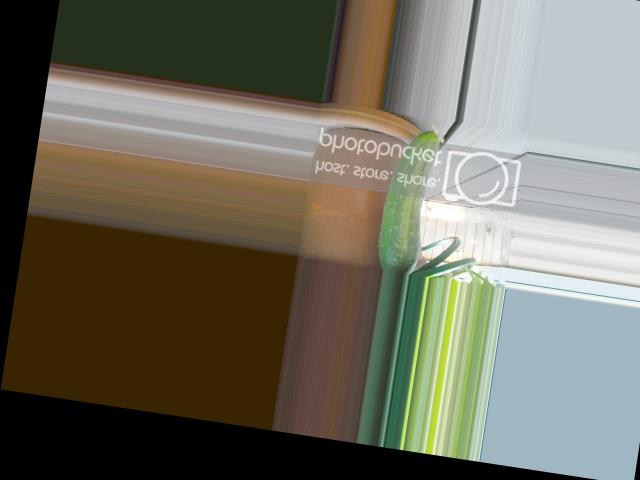cucumber: (375, 118, 442, 275)
